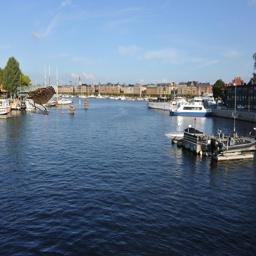Sparrow: (17, 85, 57, 117)
